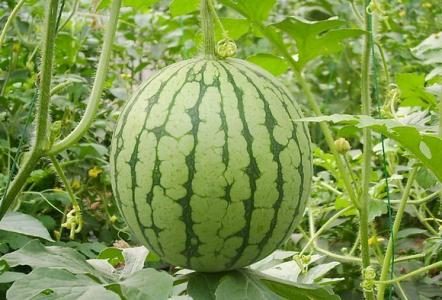watermelon: (120, 54, 312, 272)
